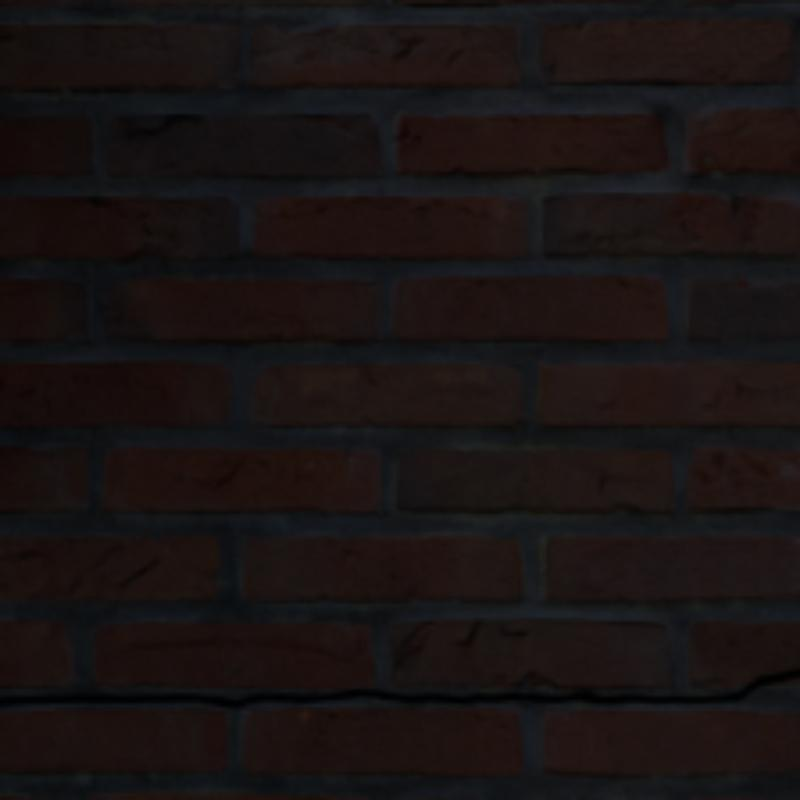crack: (345, 671, 796, 700), (221, 693, 331, 704), (0, 696, 221, 700)
